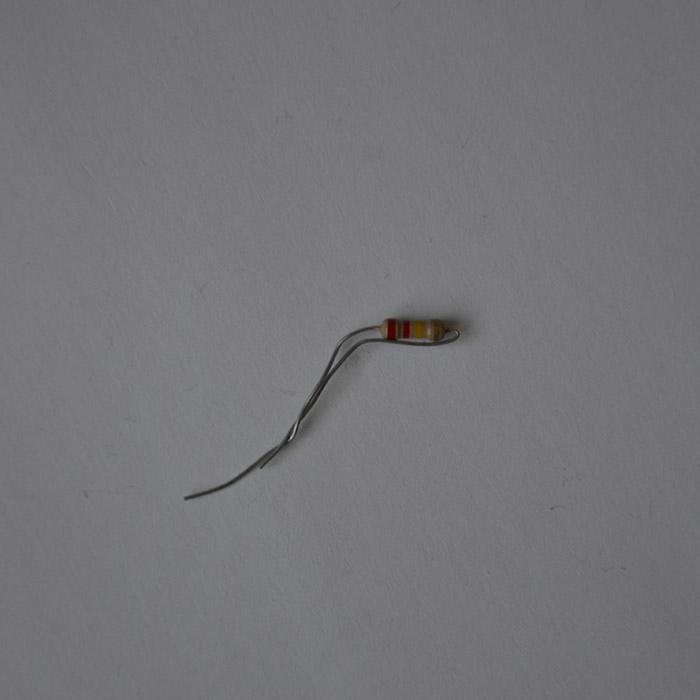resistor: (377, 317, 446, 341)
